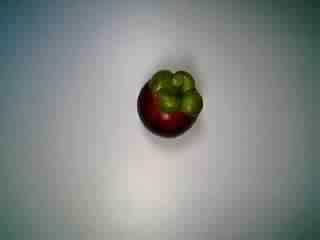mangosteen: (128, 63, 206, 139)
